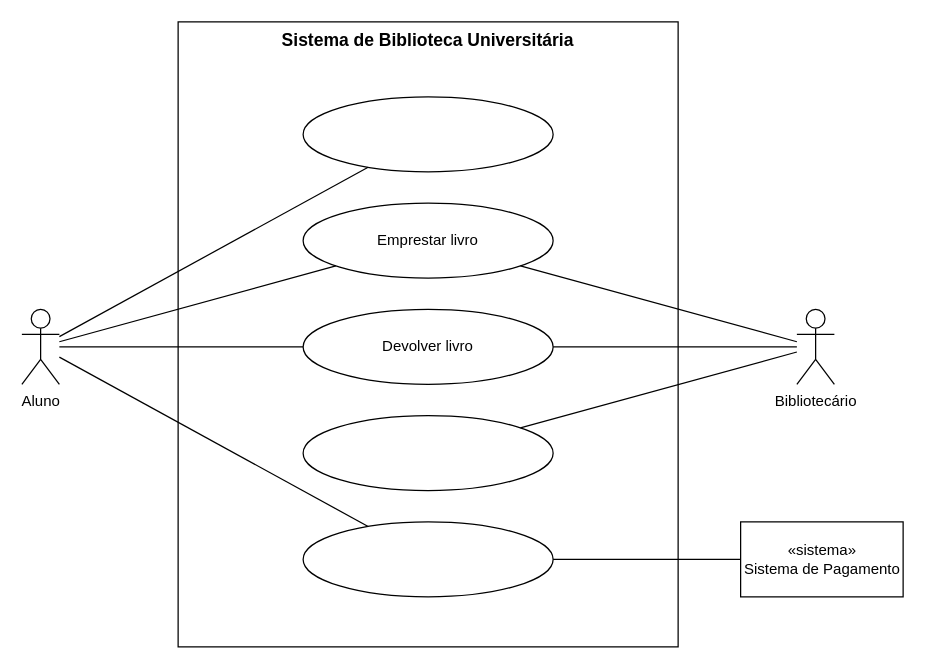
This 925x669 diagram has some shape labels left out. Here are the shapes that lost their labels. From the top down, the centre of each, then its label:
the point at 427,134: Buscar livro
the point at 427,452: Cadastrar livro
the point at 427,559: Pagar multa
